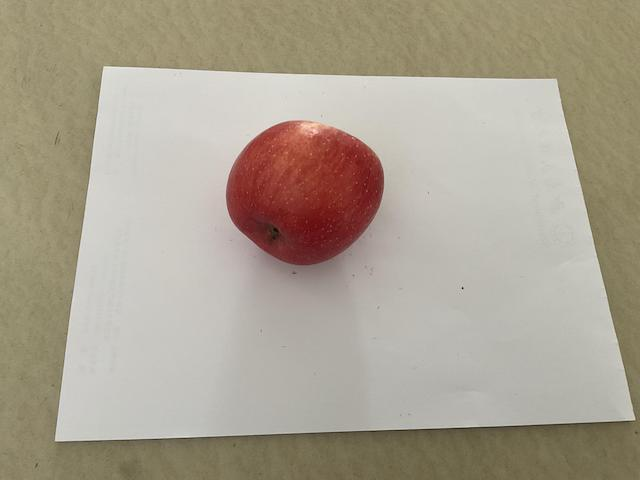apple: (218, 113, 388, 272)
